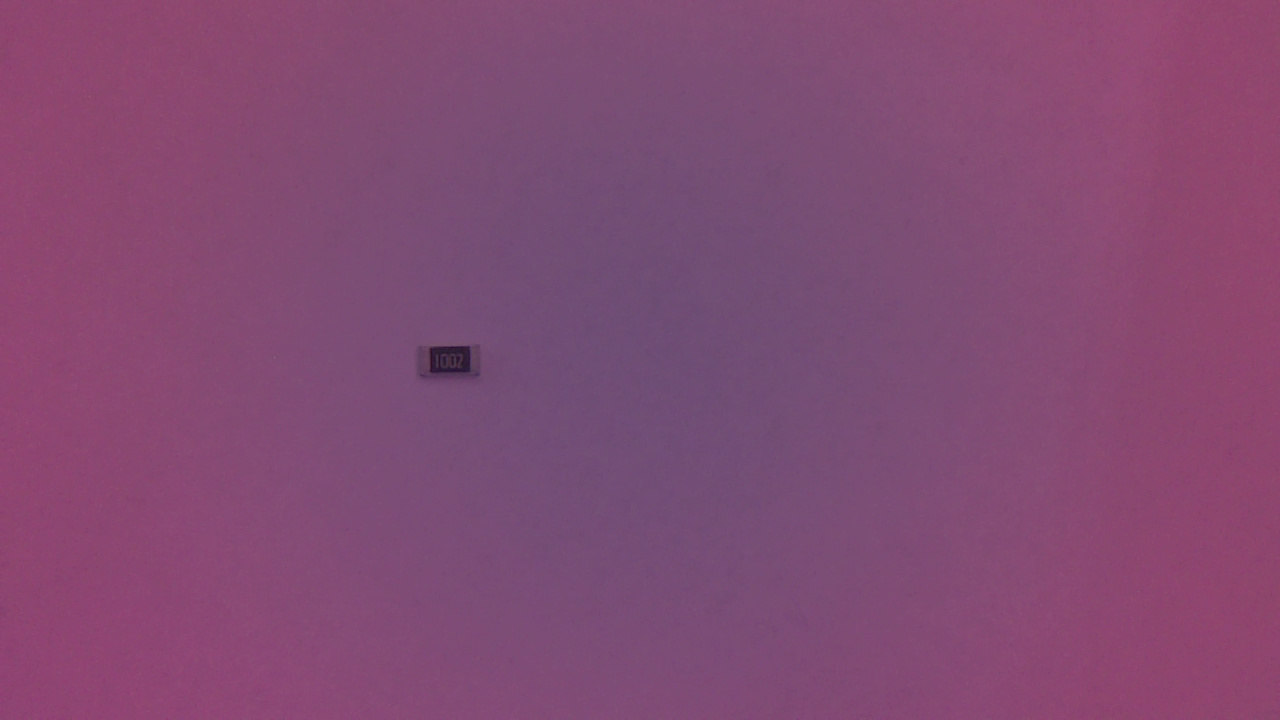Resistor: (416, 342, 491, 388)
